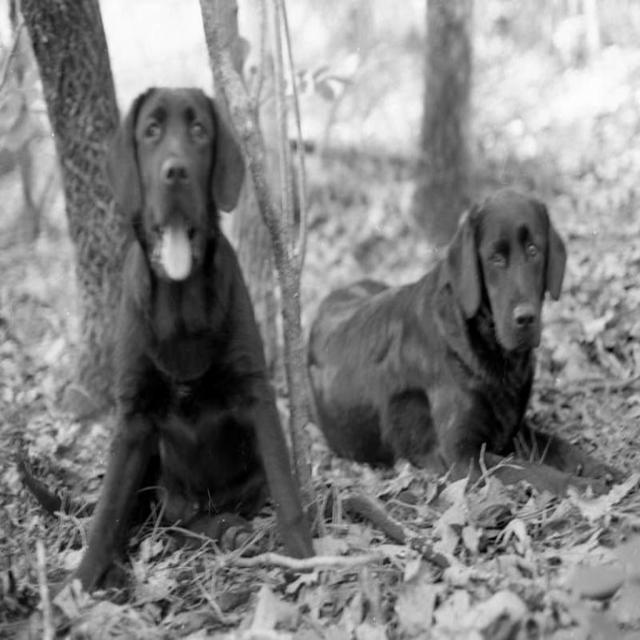Dog: (67, 85, 317, 598), (308, 186, 628, 499)
